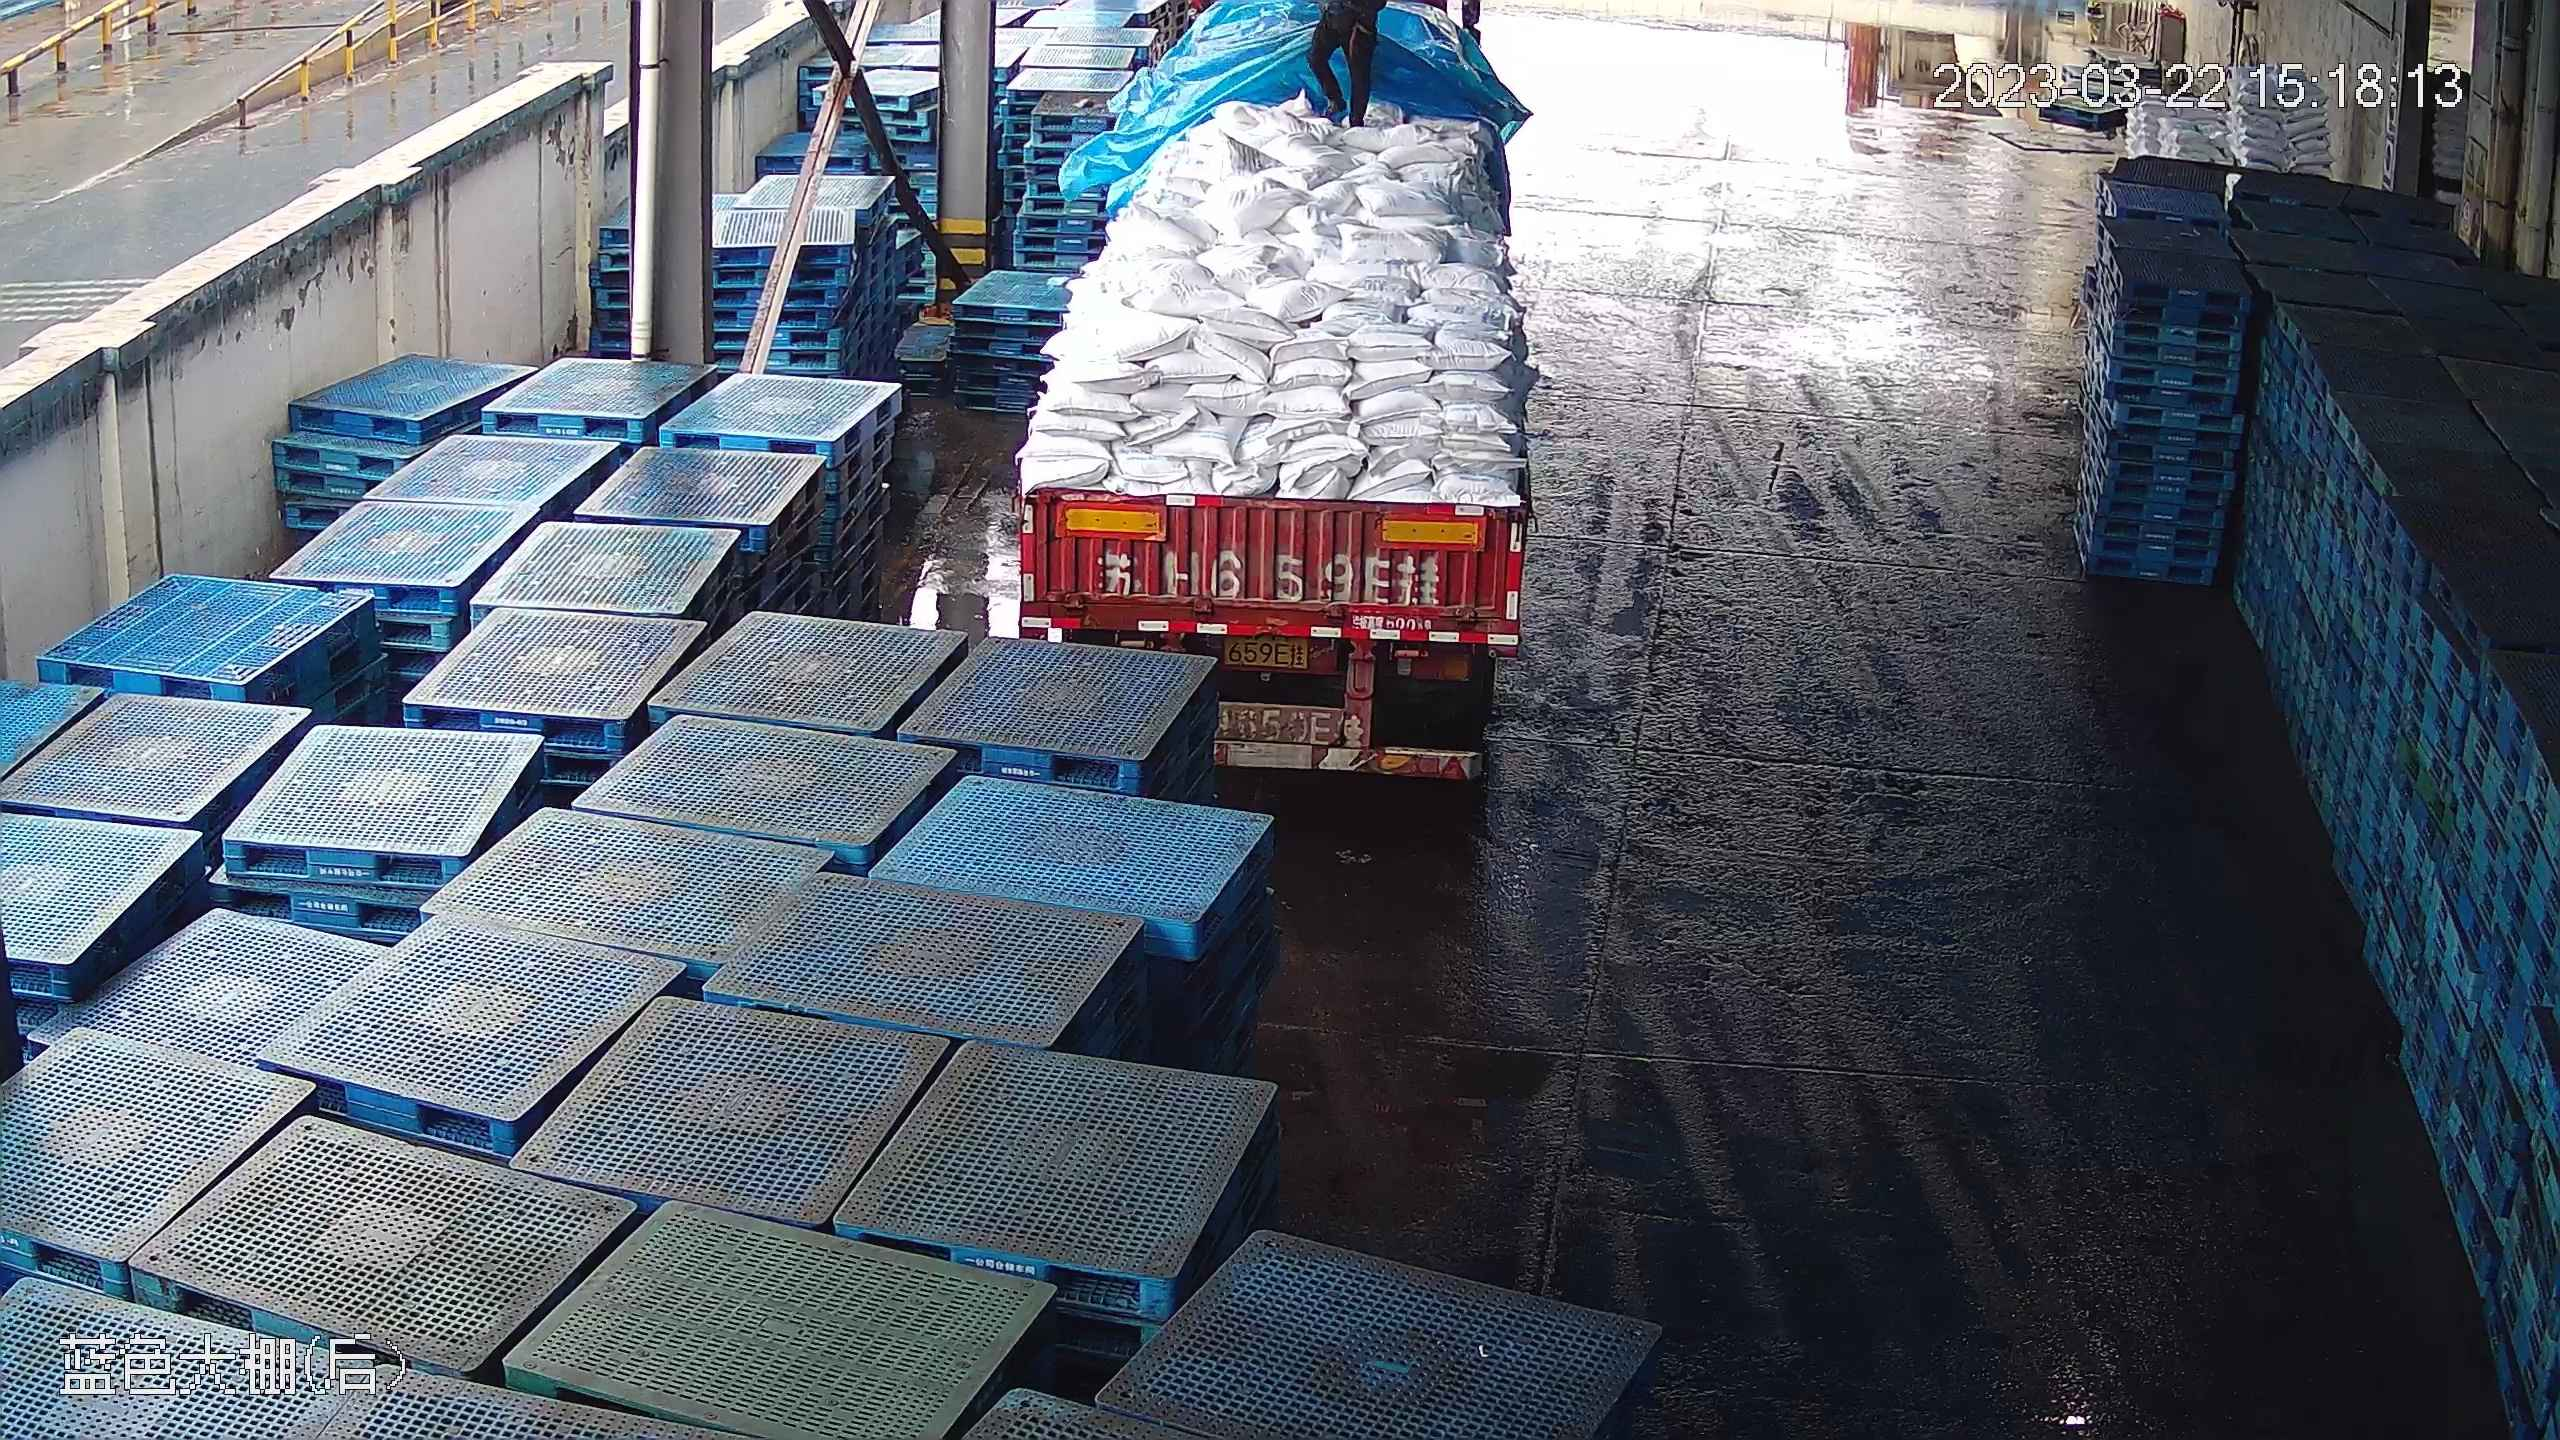people: (1304, 1, 1386, 129)
truck: (994, 8, 1544, 790)
